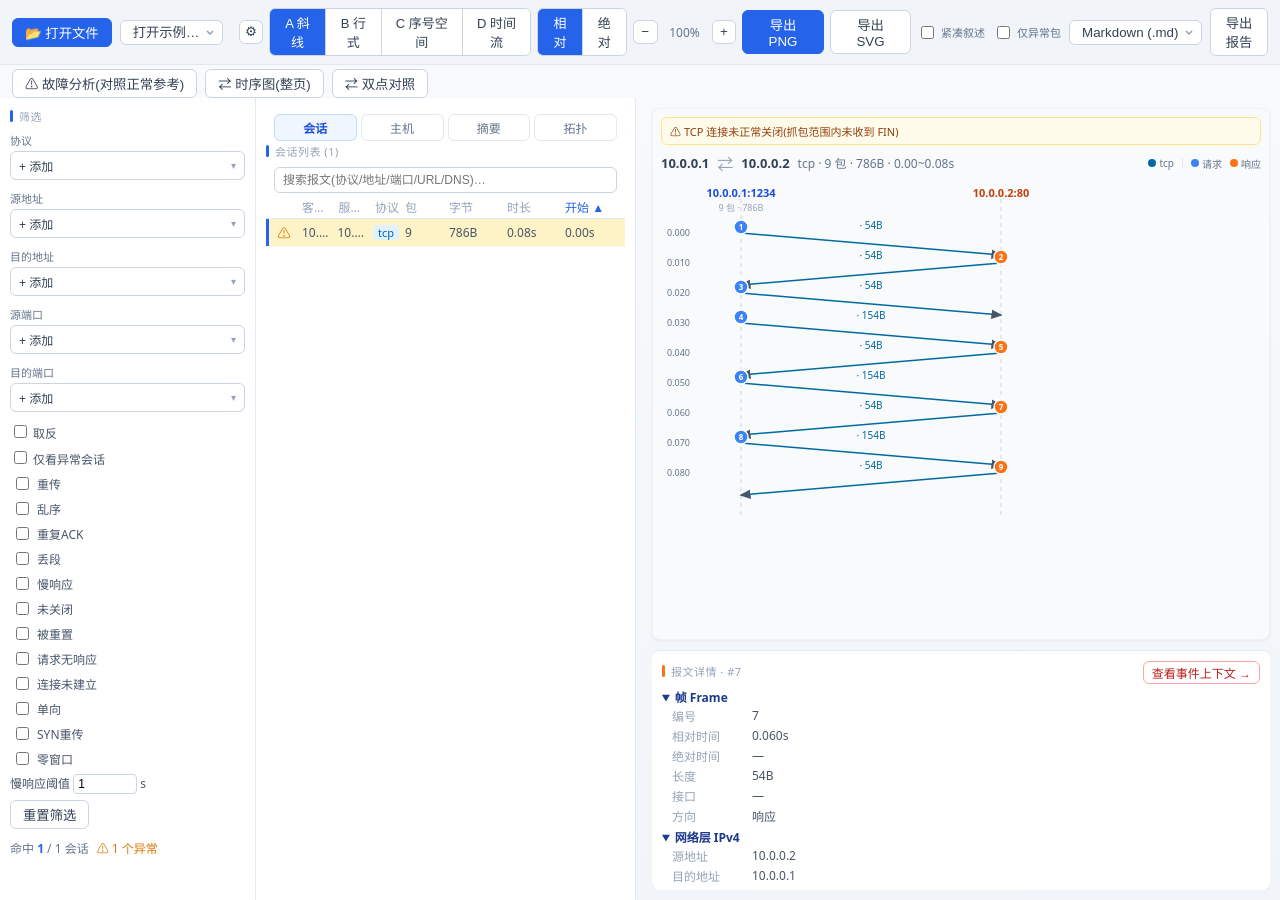
Test: M4 故障分析整页板块(用户要求:整页切换,非右侧局部替换) › 跳包→详情→返回恢复:事件与阶段按分镜粒度还原,报文详情提供「查看事件上下文」入口
The image size is (1280, 900).
Click the button with test id "pd-view-events".
click(1201, 672)  # box [1143, 661, 1260, 684]
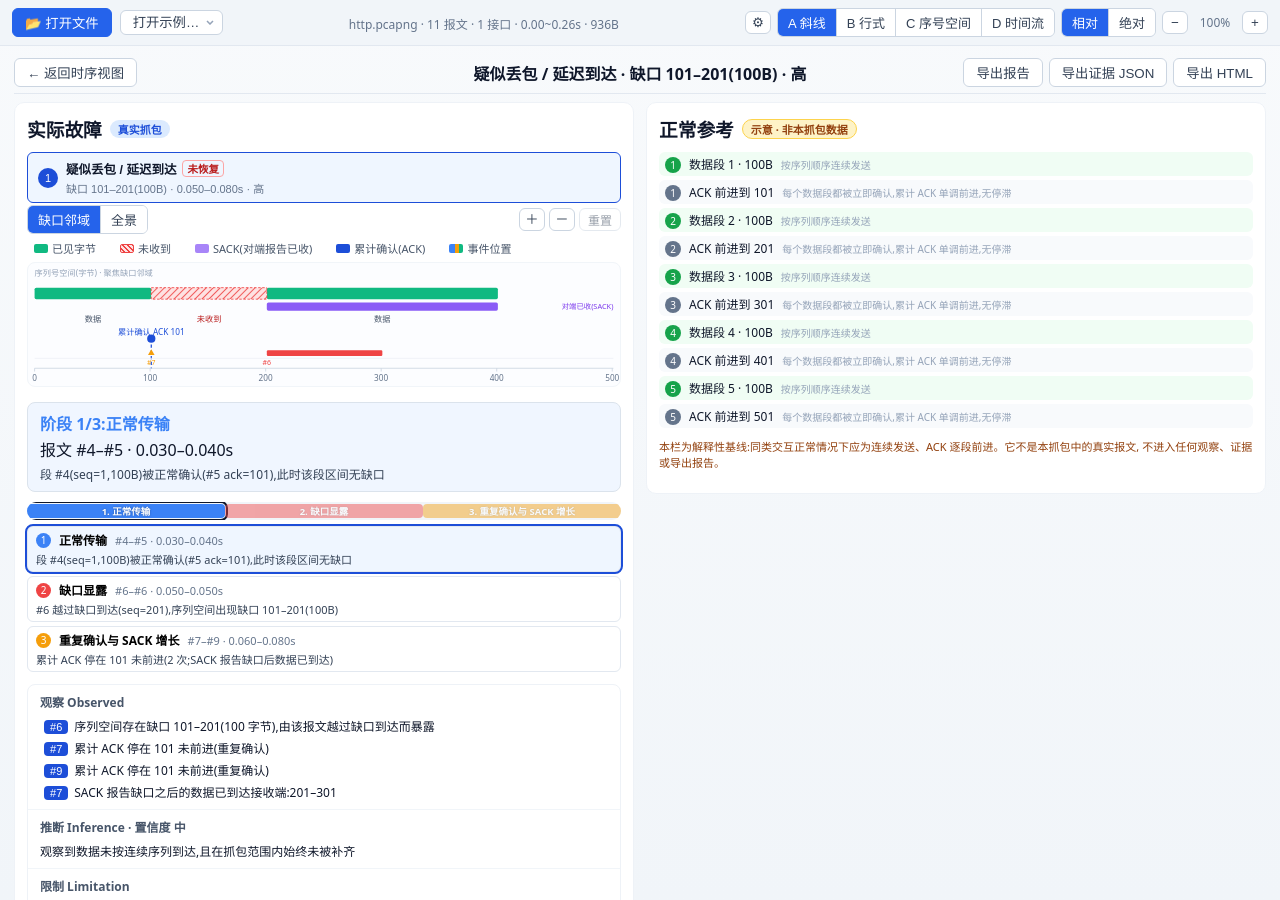
expect the element with test id "fault-compare" is shown: met
expect the text with class "fc-headline" shows "疑似丢包 / 延迟到达": met, box [474, 62, 806, 84]
Click the button with class "fc-stage-card" that starts with "重复确认与 SACK 增长".
click(119, 641)  # box [27, 626, 621, 672]
(page scrolled)
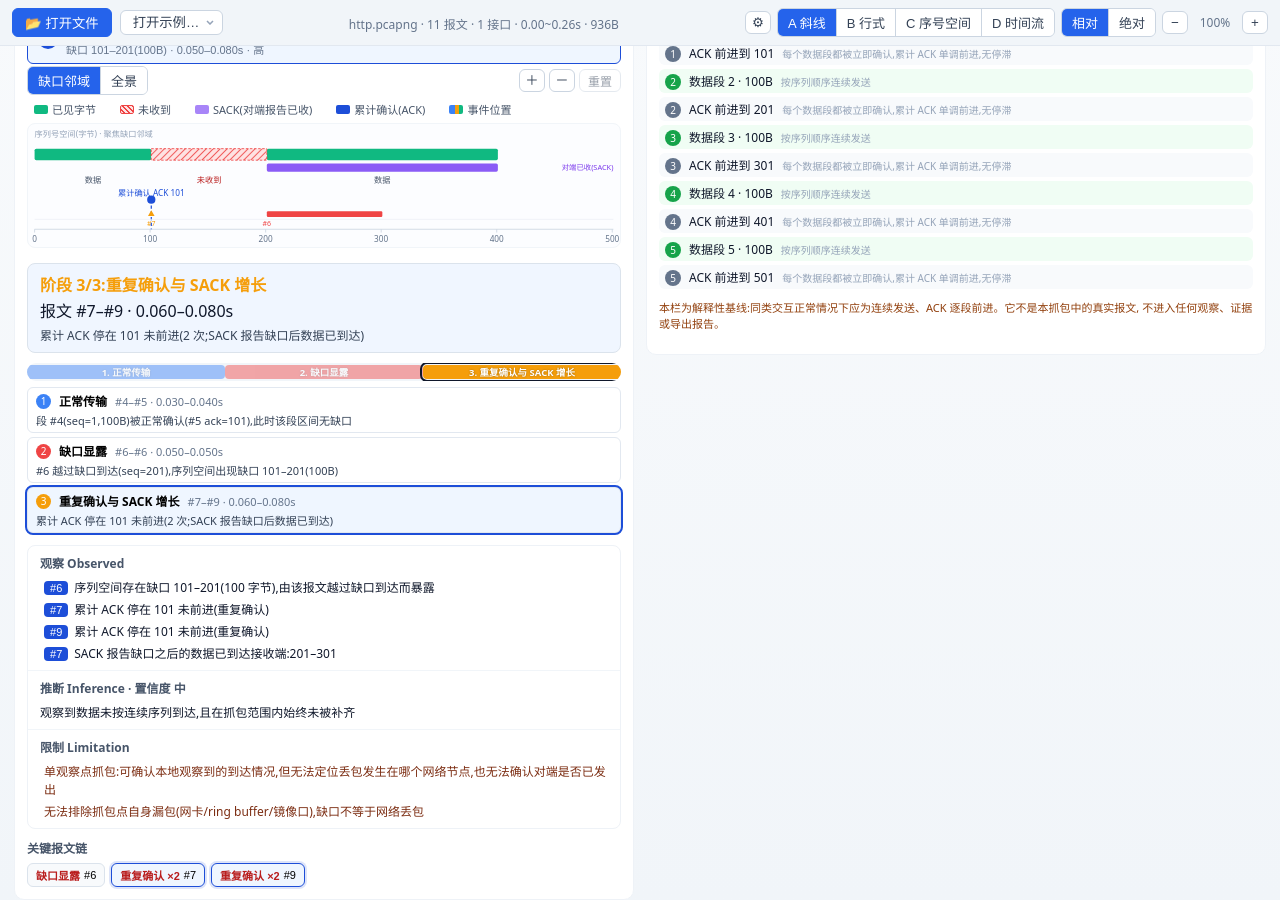
Click the button with class "fc-keypkt" showing "重复确认 ×2 #9".
click(258, 875)  # box [211, 863, 305, 887]
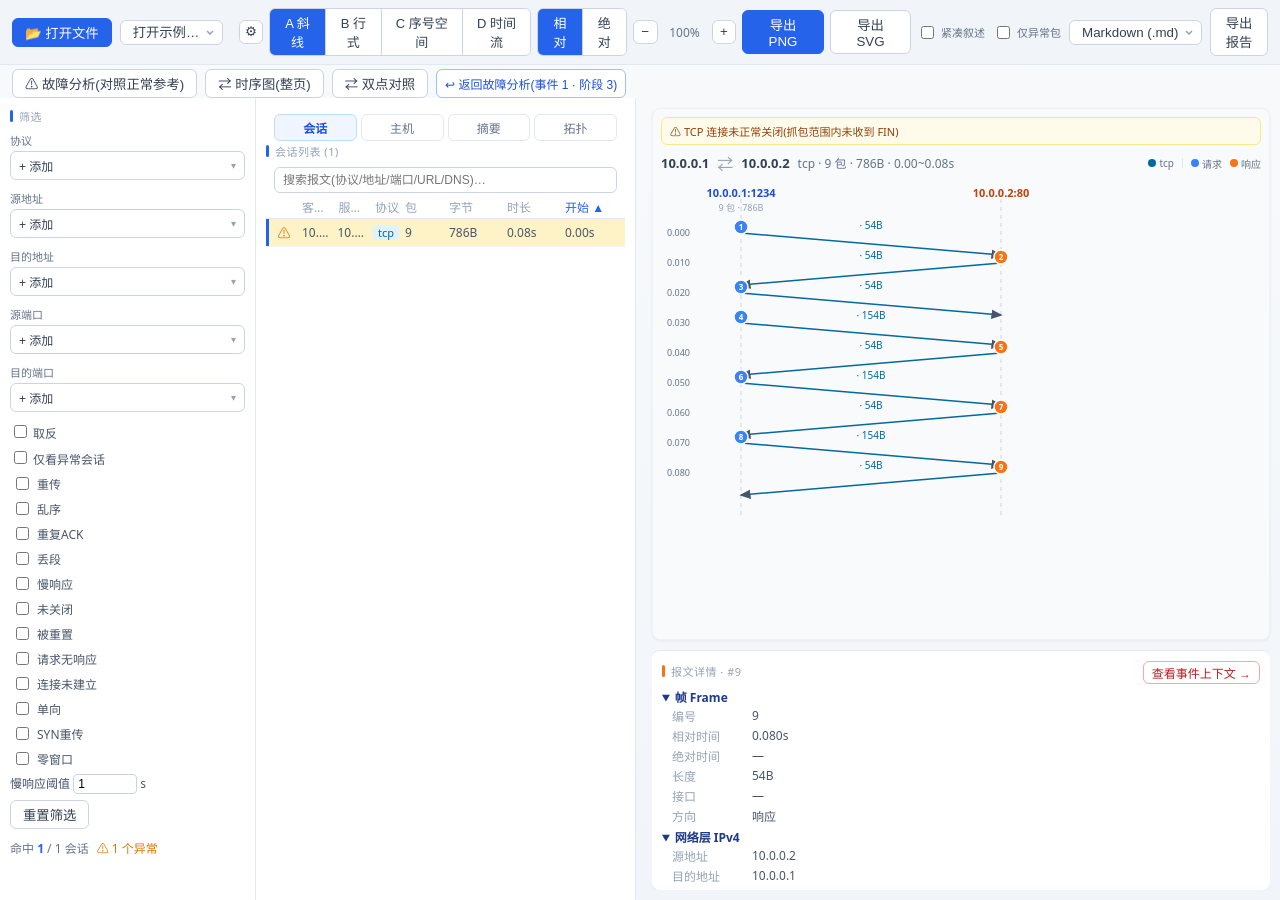
expect the button with test id "fault-analyze-resume" shows "事件 1 · 阶段 3": met
Click the button with test id "fault-analyze-resume".
click(531, 84)  # box [436, 69, 626, 98]
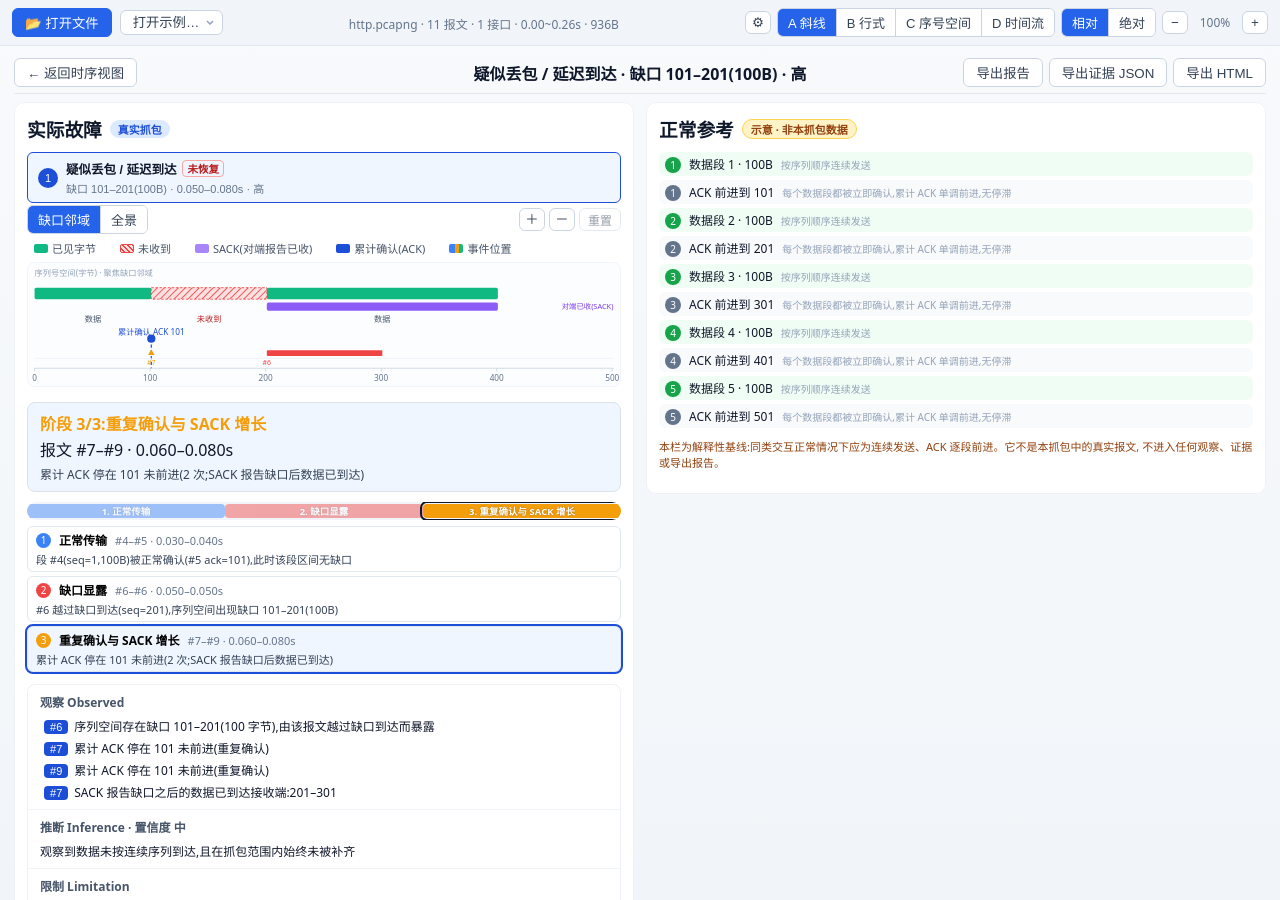
expect the element with test id "fault-compare" is shown: met
expect the element with test id "fc-stage-panel" shows "阶段 3/": met, box [27, 402, 621, 492]
